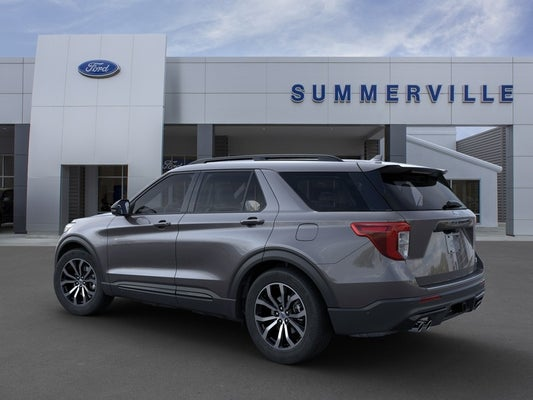Ford Explorer: (51, 152, 490, 367)
